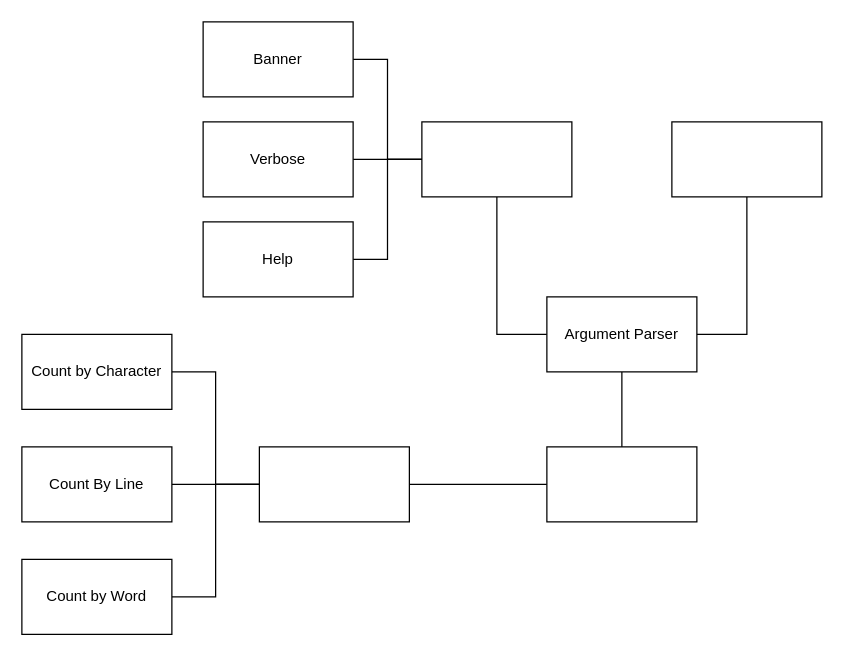
Some shapes in this 844 by 656 pixel diagram are drawn without their labels. Here are the shapes that lost their labels. From the top down, the centre of each, then its label:
At (496,159): "Command Line Option".
At (746,159): "Filenames".
At (333,484): "Counter".
At (621,484): "Counter Command Line Application".
